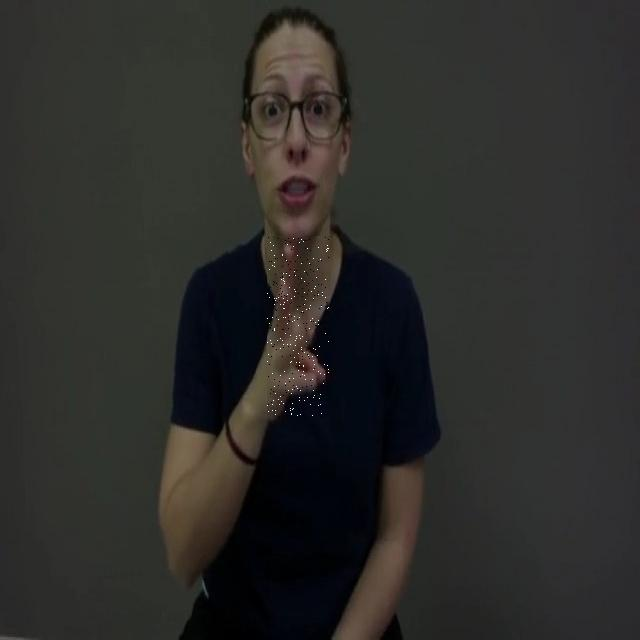water: (268, 236, 330, 418)
